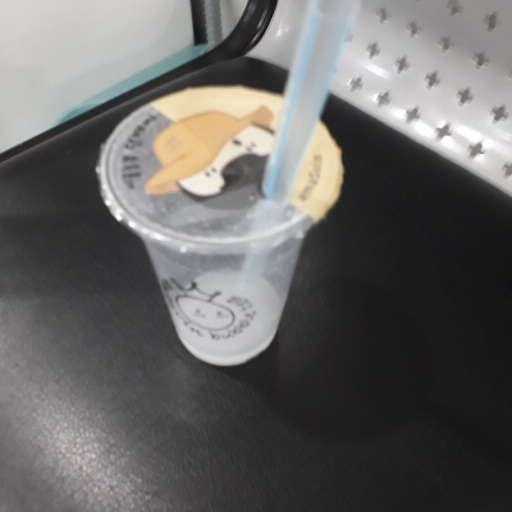Plastic_2: (94, 4, 359, 370)
